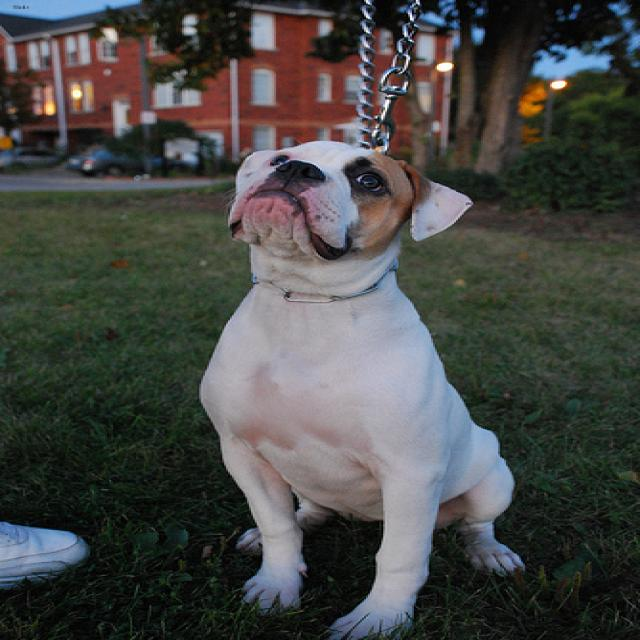dog-american_bulldog: (184, 131, 535, 637)
